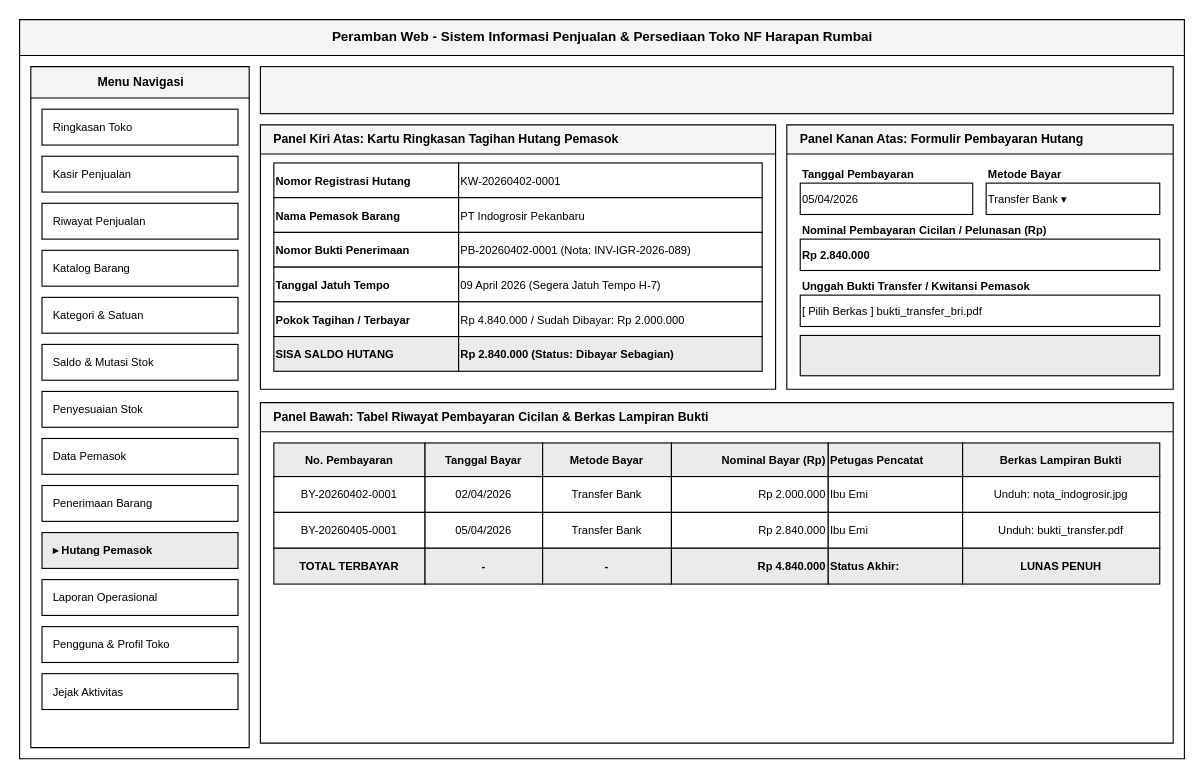
This 1204x778 diagram has some shape labels left out. Each missing label, with the centre of its shape:
"Halaman Rincian Hutang Pemasok & Pencatatan Pembayaran Cicilan" goes at (x=716, y=90).
"SIMPAN PEMBAYARAN HUTANG" goes at (x=979, y=355).
